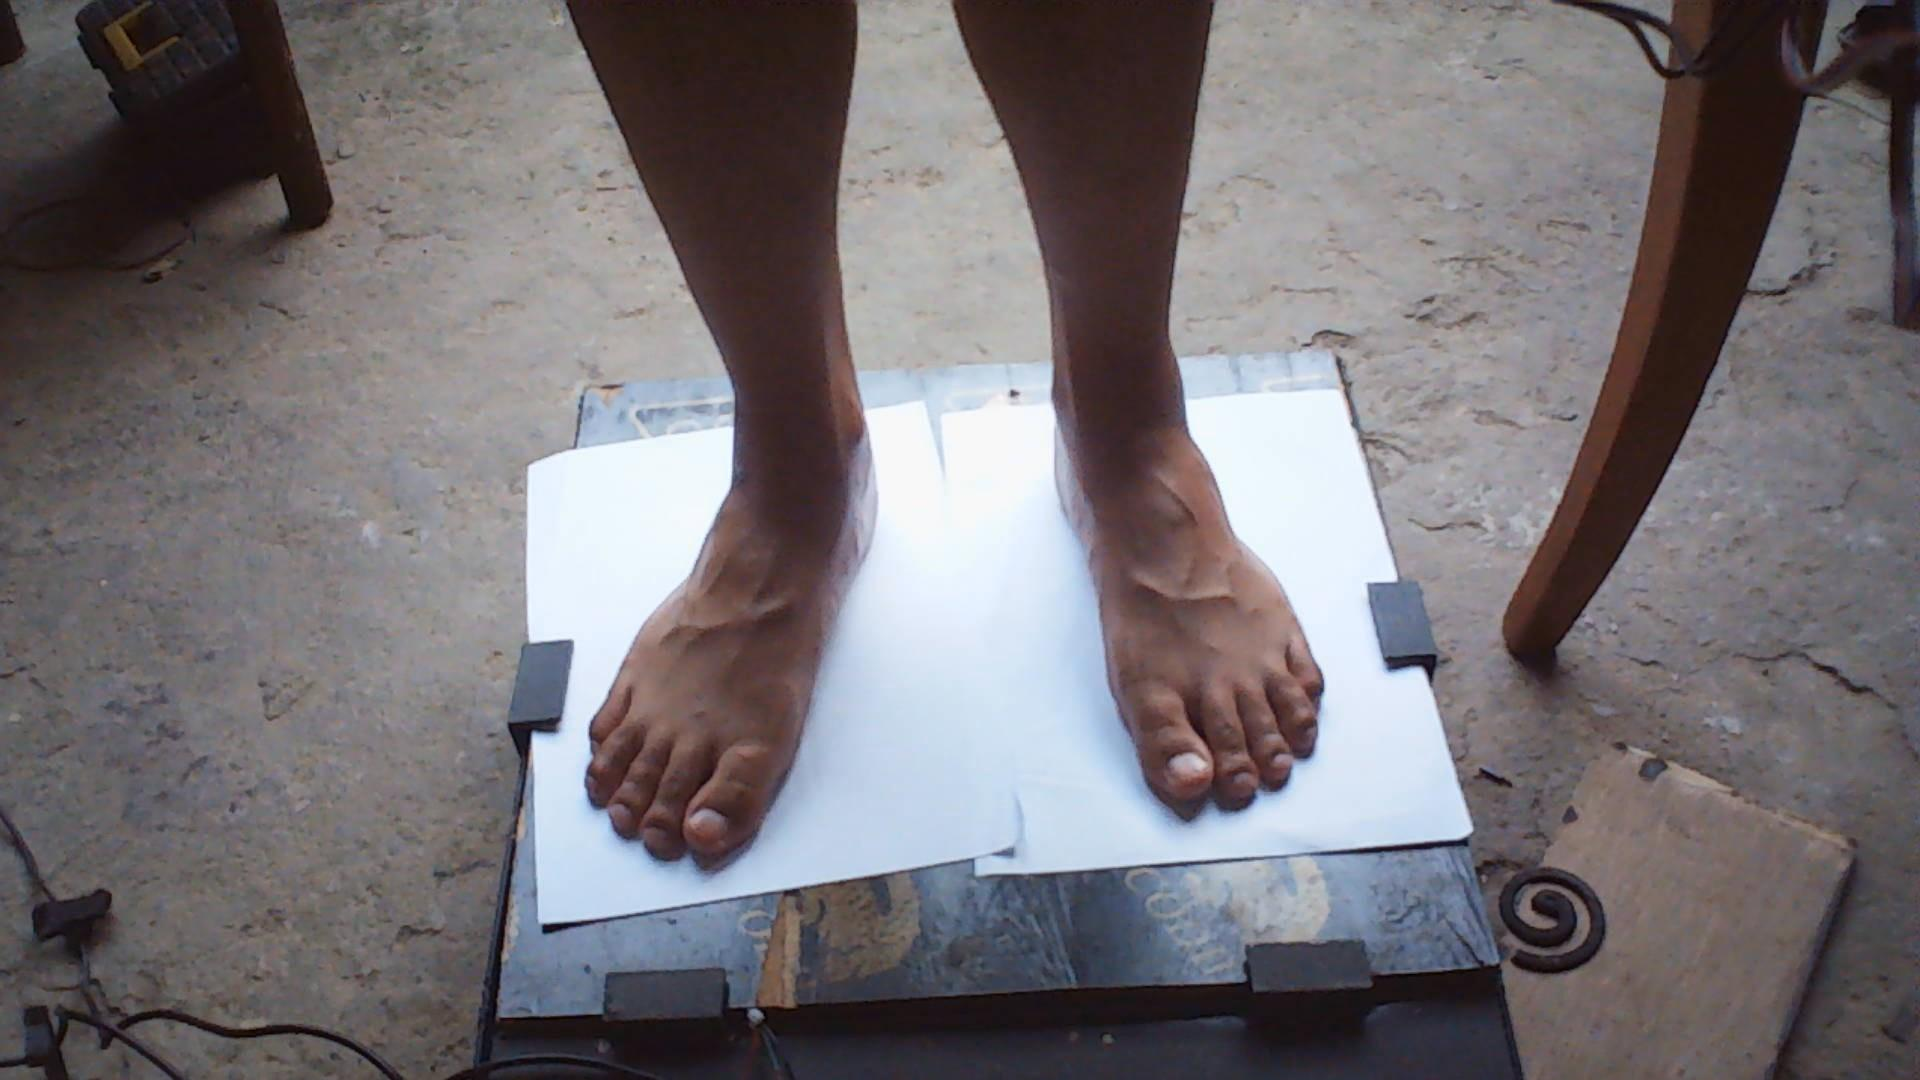Bare_feet: (1004, 368, 1362, 848), (582, 444, 865, 881)
